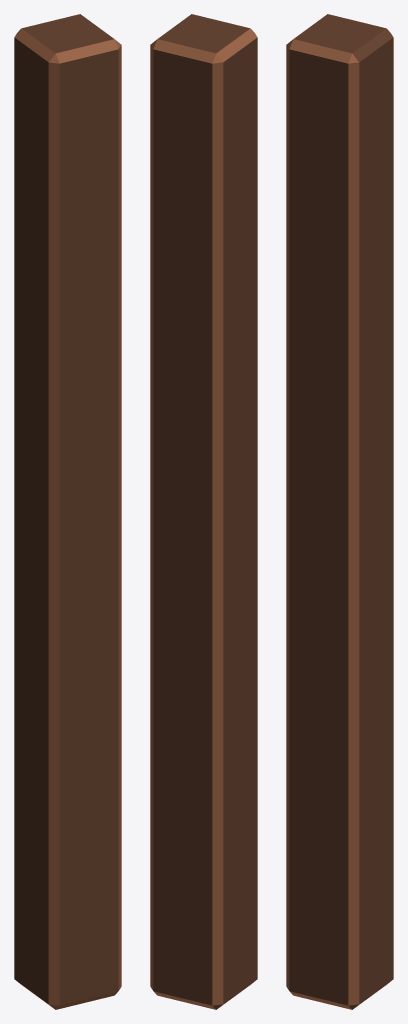
The model's file is TrunkPilar.fbx.
3 renders of one model, left to right at view 1: azimuth 30°, elevation 25°; view 2: azimuth 150°, elevation 25°; view 3: azimuth 330°, elevation 25°, orthographic.
Visible parts, largest first — view 1: TrunkPilar; view 2: TrunkPilar; view 3: TrunkPilar.
Boxes of the visible parts, <box> form: TrunkPilar: <box>14,14,121,1009</box>; TrunkPilar: <box>150,14,257,1009</box>; TrunkPilar: <box>286,14,393,1009</box>.
Bounding box in the file's own units: 40.15 × 504 × 40.42.
